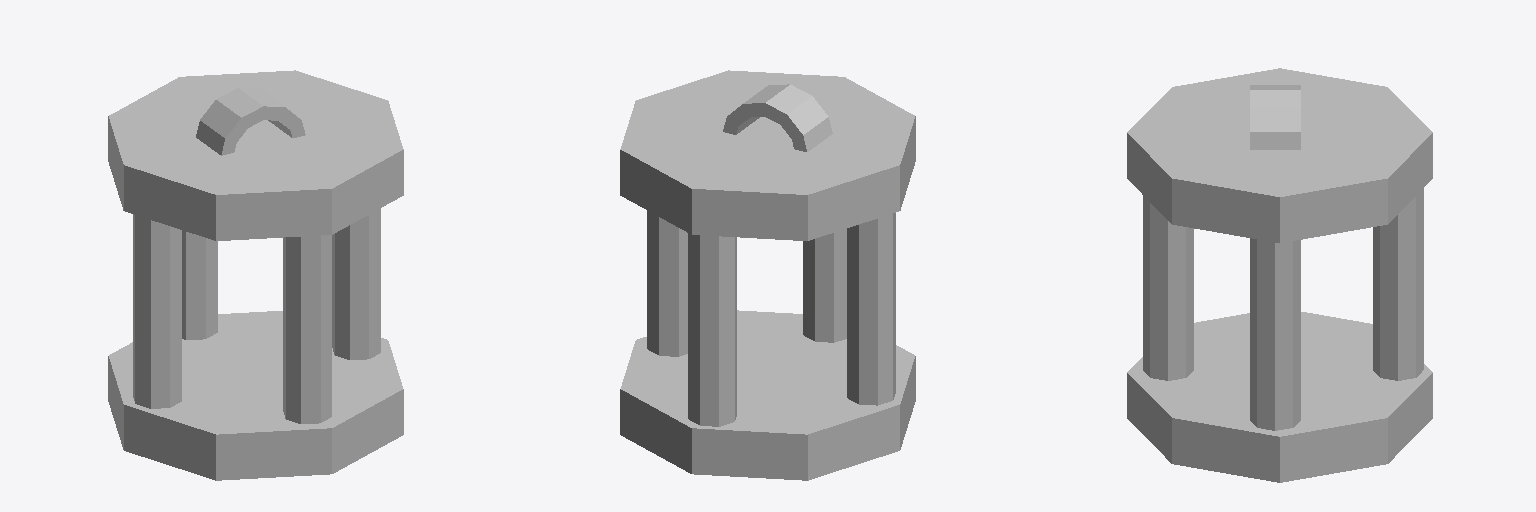
The model's file is Lantern.obj.
3 renders of one model, left to right at view 1: azimuth 30°, elevation 25°; view 2: azimuth 150°, elevation 25°; view 3: azimuth 270°, elevation 25°, orthographic.
Visible parts, largest first — view 1: Lantern; view 2: Lantern; view 3: Lantern.
Boxes of the visible parts, <box> form: Lantern: <box>108,70,403,480</box>; Lantern: <box>620,70,915,480</box>; Lantern: <box>1127,68,1432,482</box>.
Size of the model in its own units: 0.6 by 0.704 by 0.6.